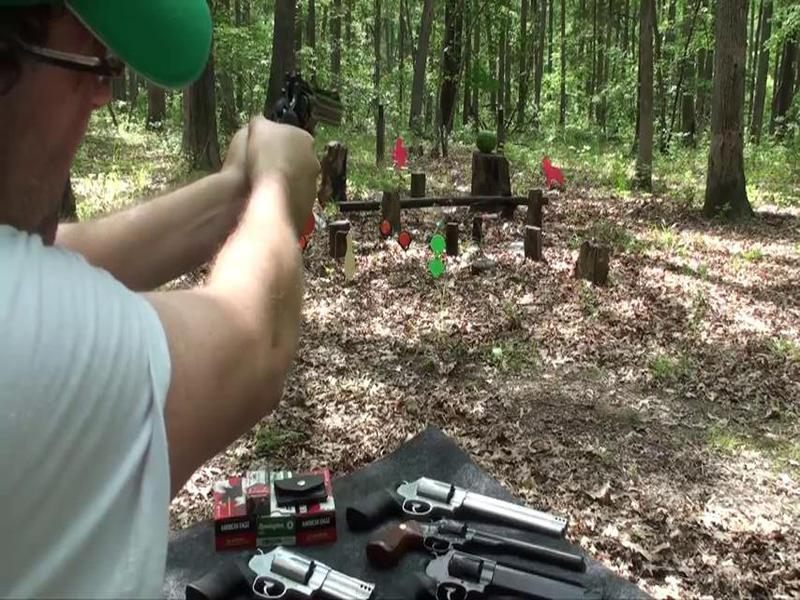Revolver: (260, 64, 348, 158)
